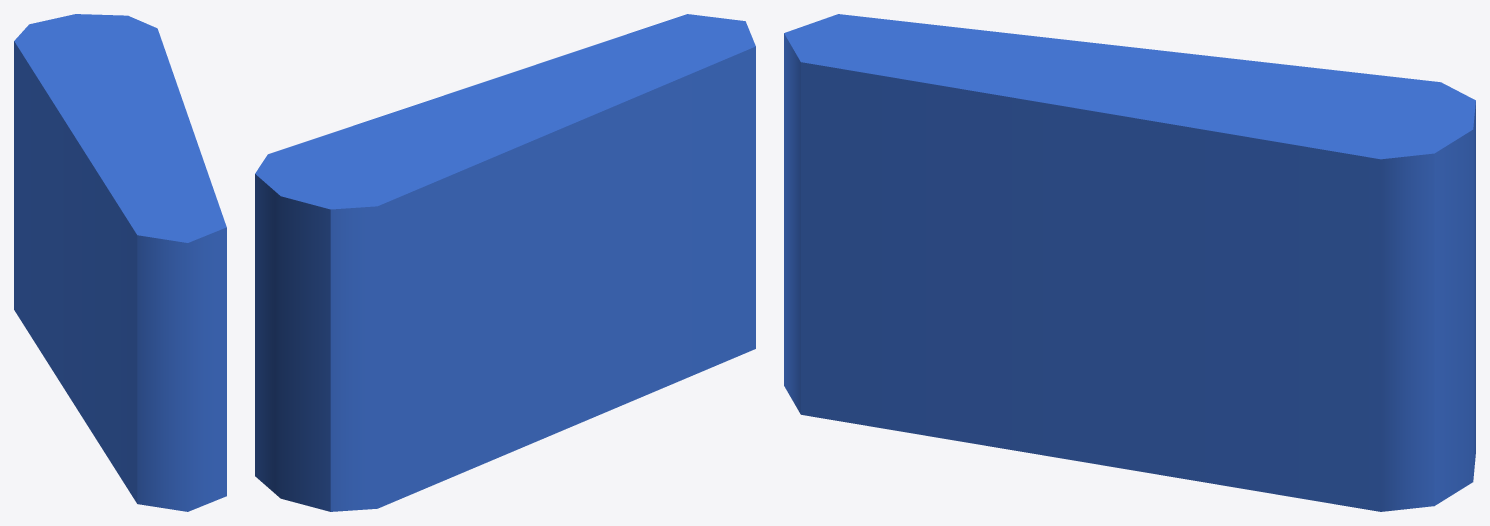
File: flipper.fbx
The picture shows the model from 3 angles, left to right: view 1: azimuth 30°, elevation 25°; view 2: azimuth 150°, elevation 25°; view 3: azimuth 270°, elevation 25°; orthographic projection. The views are drawn at different scales.
Parts seen in each view (by area): view 1: flipper01_GEO_TestTable01_kgunn; view 2: flipper01_GEO_TestTable01_kgunn; view 3: flipper01_GEO_TestTable01_kgunn.
Part boxes in pixels (left/top/right/bottom): flipper01_GEO_TestTable01_kgunn: left=14, top=14, right=226, bottom=511; flipper01_GEO_TestTable01_kgunn: left=255, top=14, right=755, bottom=511; flipper01_GEO_TestTable01_kgunn: left=784, top=14, right=1475, bottom=511.
Bounding box in the file's own units: 0.884 × 1 × 1.78.
